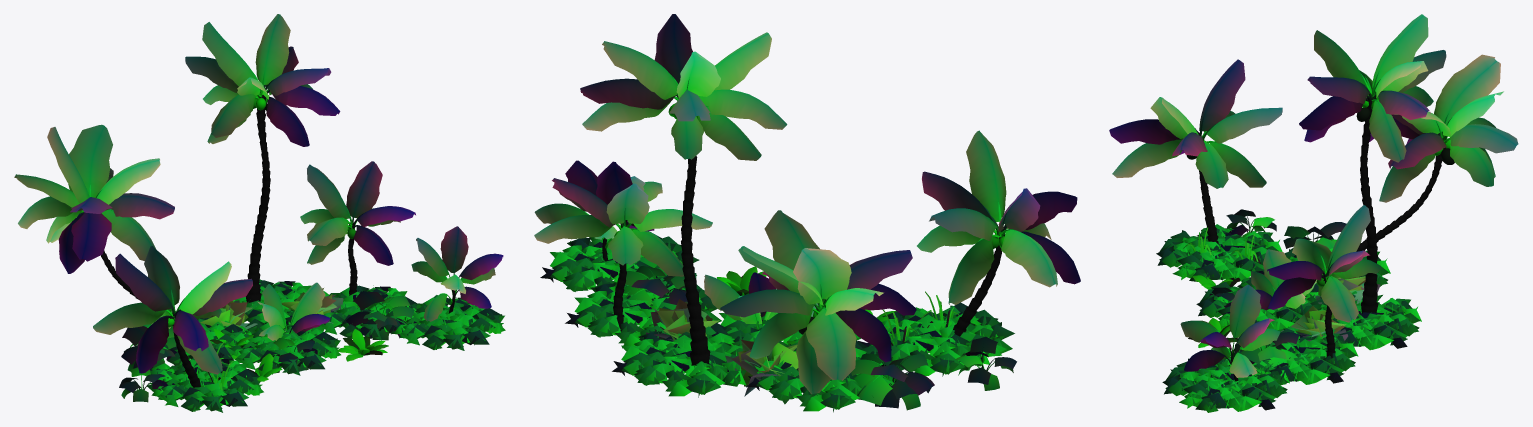
The model's file is stylized tropical pack.fbx.
The picture shows the model from 3 angles, left to right: view 1: azimuth 30°, elevation 25°; view 2: azimuth 150°, elevation 25°; view 3: azimuth 270°, elevation 25°; orthographic projection. The views are drawn at different scales.
Parts seen in each view (by area): view 1: Tree_1, Tree_3, Tree_0, Tree_2; view 2: Tree_1, Tree_3, Tree_0, Tree_2; view 3: Tree_1, Tree_3, Tree_0, Tree_2.
Part boxes in pixels (left/top/right/bottom): Tree_1: left=14, top=14, right=503, bottom=402; Tree_3: left=137, top=279, right=505, bottom=412; Tree_0: left=76, top=69, right=468, bottom=391; Tree_2: left=210, top=329, right=388, bottom=381; Tree_1: left=534, top=14, right=1080, bottom=410; Tree_3: left=540, top=231, right=1014, bottom=412; Tree_0: left=578, top=70, right=1031, bottom=384; Tree_2: left=717, top=266, right=896, bottom=352; Tree_1: left=1109, top=14, right=1518, bottom=377; Tree_3: left=1156, top=224, right=1421, bottom=412; Tree_0: left=1186, top=71, right=1454, bottom=383; Tree_2: left=1188, top=275, right=1316, bottom=347.
Bounding box in the file's own units: 1301 × 884 × 1056.
